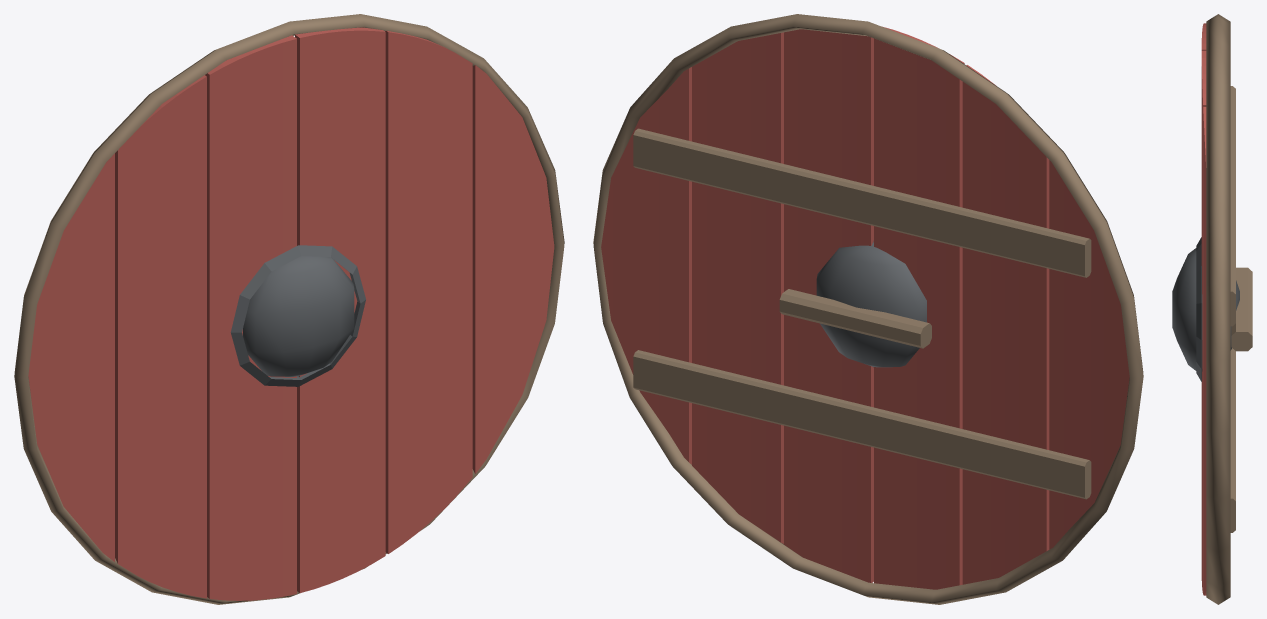
Rendered from shield_round.glb.
3 views of the same model, side by side, from view 1: azimuth 30°, elevation 25°; view 2: azimuth 150°, elevation 25°; view 3: azimuth 270°, elevation 25° (orthographic). The views are drawn at different scales.
Parts seen in each view (by area): view 1: shield_round; view 2: shield_round; view 3: shield_round.
Part boxes in pixels (x1,y1,x2,y2): shield_round: (14, 14, 564, 604); shield_round: (593, 14, 1143, 604); shield_round: (1172, 14, 1252, 604).
Bounding box in the file's own units: 0.78 × 0.78 × 0.1055.
